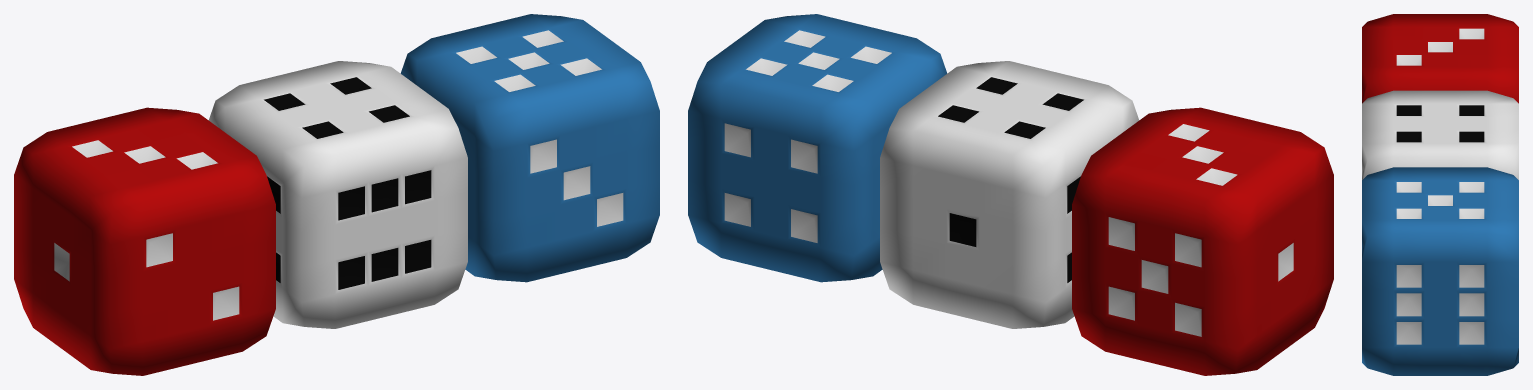
The model's file is uploads_files_3142007_Dice.glb.
3 views of the same model, side by side, from view 1: azimuth 30°, elevation 25°; view 2: azimuth 150°, elevation 25°; view 3: azimuth 270°, elevation 25° (orthographic). The views are drawn at different scales.
Visible parts, largest first — view 1: Cube.001, Cube.002, Cube; view 2: Cube.001, Cube.002, Cube; view 3: Cube.002, Cube, Cube.001.
Part boxes in pixels (x1,y1,x2,y2): Cube.001: (14,107,275,375); Cube.002: (400,14,659,282); Cube: (208,61,467,328); Cube.001: (1072,107,1333,375); Cube.002: (688,14,947,282); Cube: (880,61,1139,328); Cube.002: (1362,167,1518,375); Cube: (1362,90,1518,179); Cube.001: (1362,14,1518,103).
Size of what is drawn, in the model's own units: 6.62 by 2 by 2.
